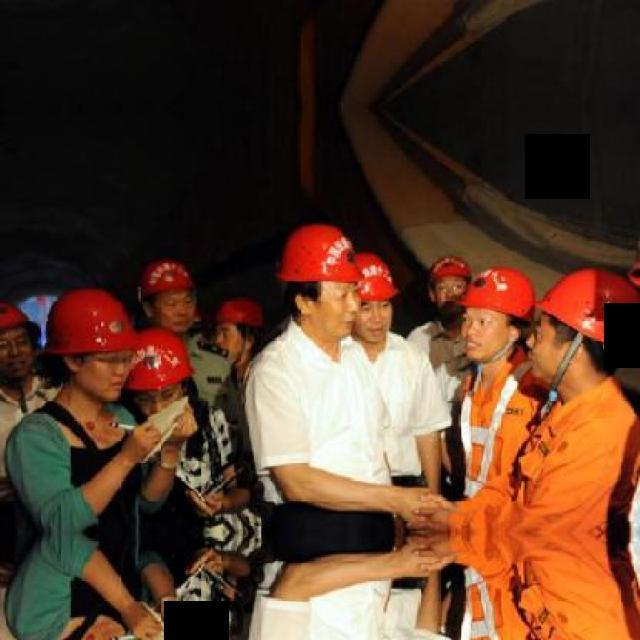red helmet: (537, 259, 640, 346), (41, 286, 141, 356), (278, 221, 363, 283), (454, 260, 538, 309), (137, 256, 201, 295), (352, 249, 399, 302), (220, 291, 271, 331), (1, 293, 38, 331), (428, 252, 474, 282)
